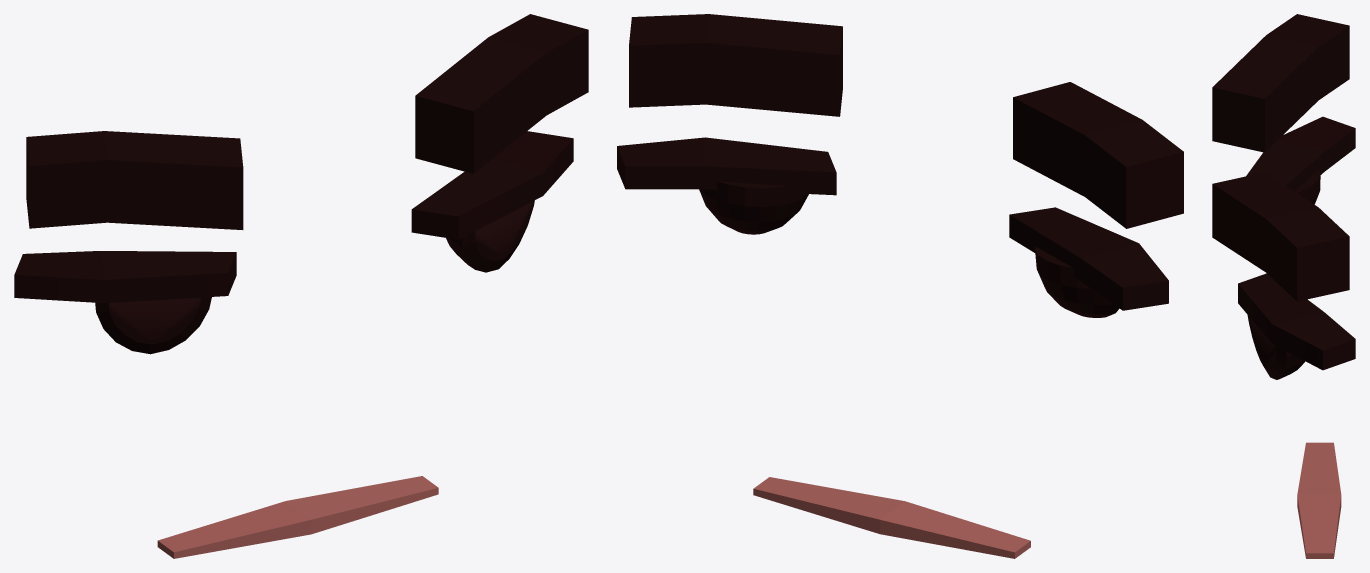
The picture shows the model from 3 angles, left to right: view 1: azimuth 30°, elevation 25°; view 2: azimuth 150°, elevation 25°; view 3: azimuth 270°, elevation 25°; orthographic projection. The views are drawn at different scales.
Visible parts, largest first — view 1: brows3, eyelid3, mouth3, eye right3; view 2: brows3, eyelid3, mouth3, eye right3; view 3: brows3, eyelid3, mouth3, eye right3.
Boxes of the visible parts, x1,y1,x2,y2 form: brows3: [26, 14, 588, 229]; eyelid3: [14, 131, 573, 303]; mouth3: [157, 476, 438, 558]; eye right3: [95, 200, 534, 354]; brows3: [629, 14, 1183, 228]; eyelid3: [617, 137, 1168, 310]; mouth3: [753, 477, 1030, 558]; eye right3: [699, 181, 1119, 317]; brows3: [1212, 14, 1349, 301]; eyelid3: [1238, 116, 1355, 370]; mouth3: [1297, 442, 1341, 558]; eye right3: [1247, 169, 1320, 379].
Size of the model in its own units: 66.99 by 50.58 by 17.35.
